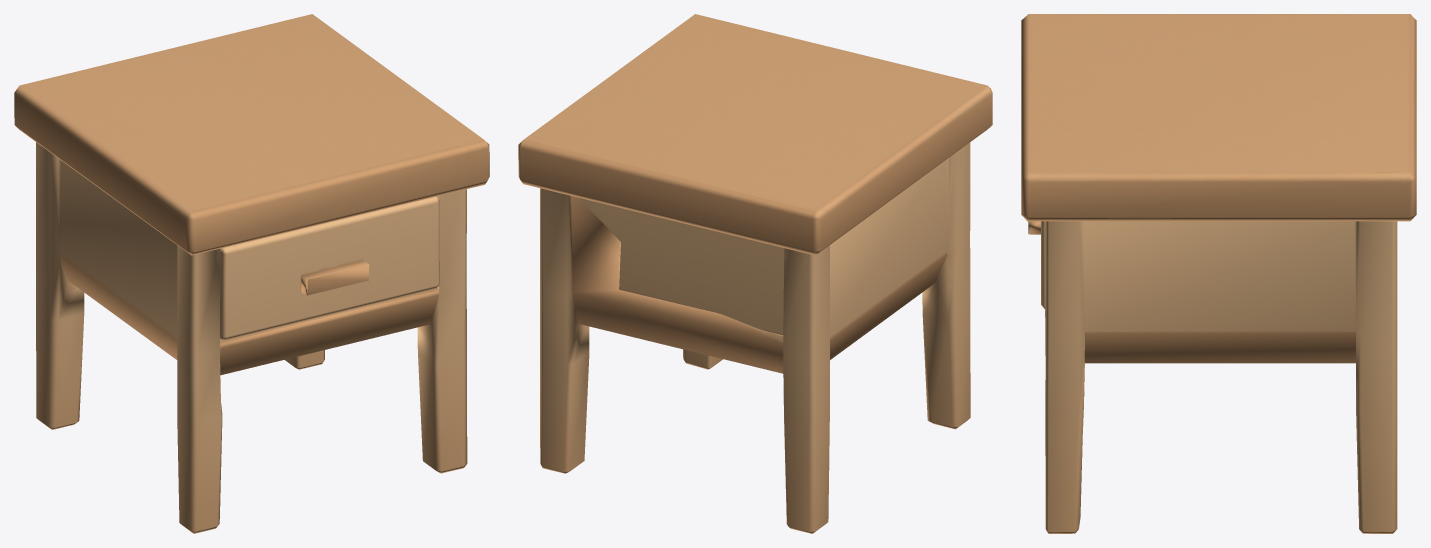
Rendered from bedside_table.glb.
The picture shows the model from 3 angles, left to right: view 1: azimuth 30°, elevation 25°; view 2: azimuth 150°, elevation 25°; view 3: azimuth 270°, elevation 25°; orthographic projection. The views are drawn at different scales.
Bounding box in the file's own units: 0.9097 × 0.9517 × 0.9272.
Materials: 1 (1 with a texture image).
